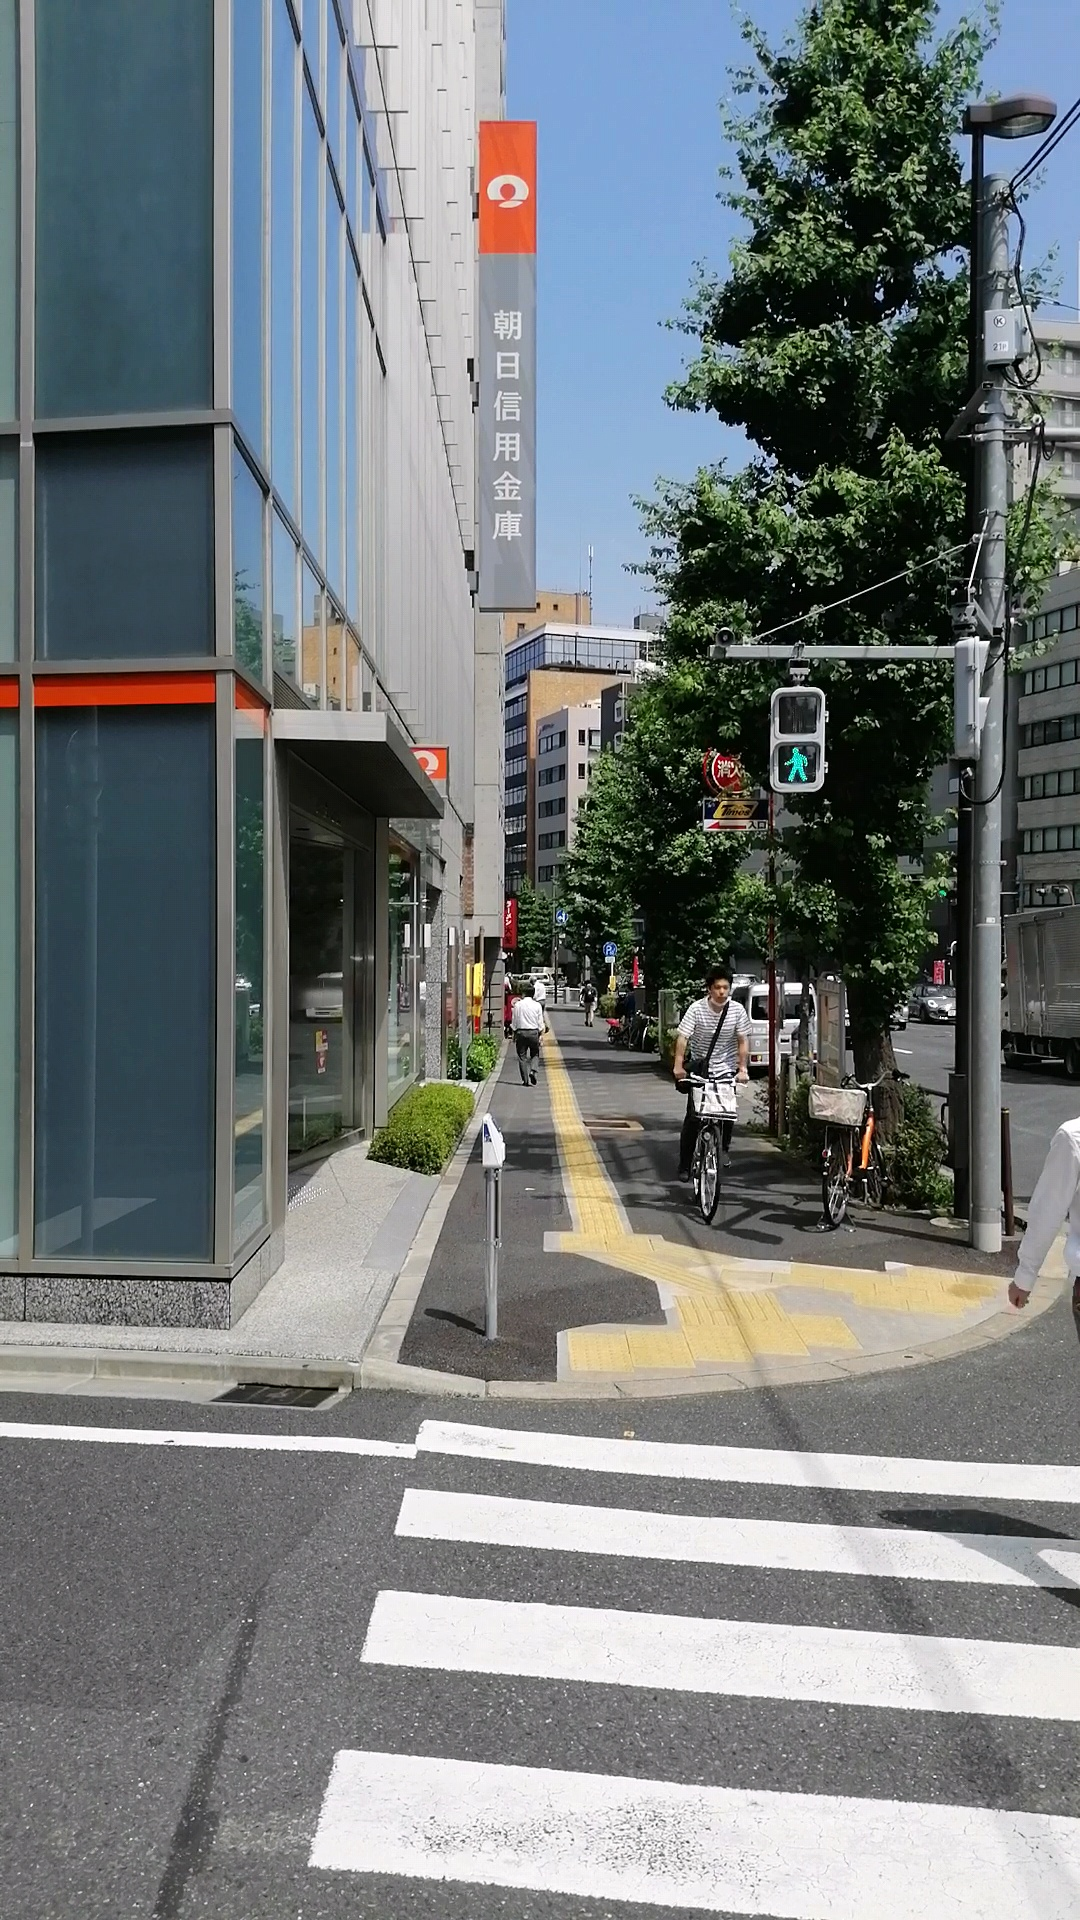green: (770, 687, 825, 793)
